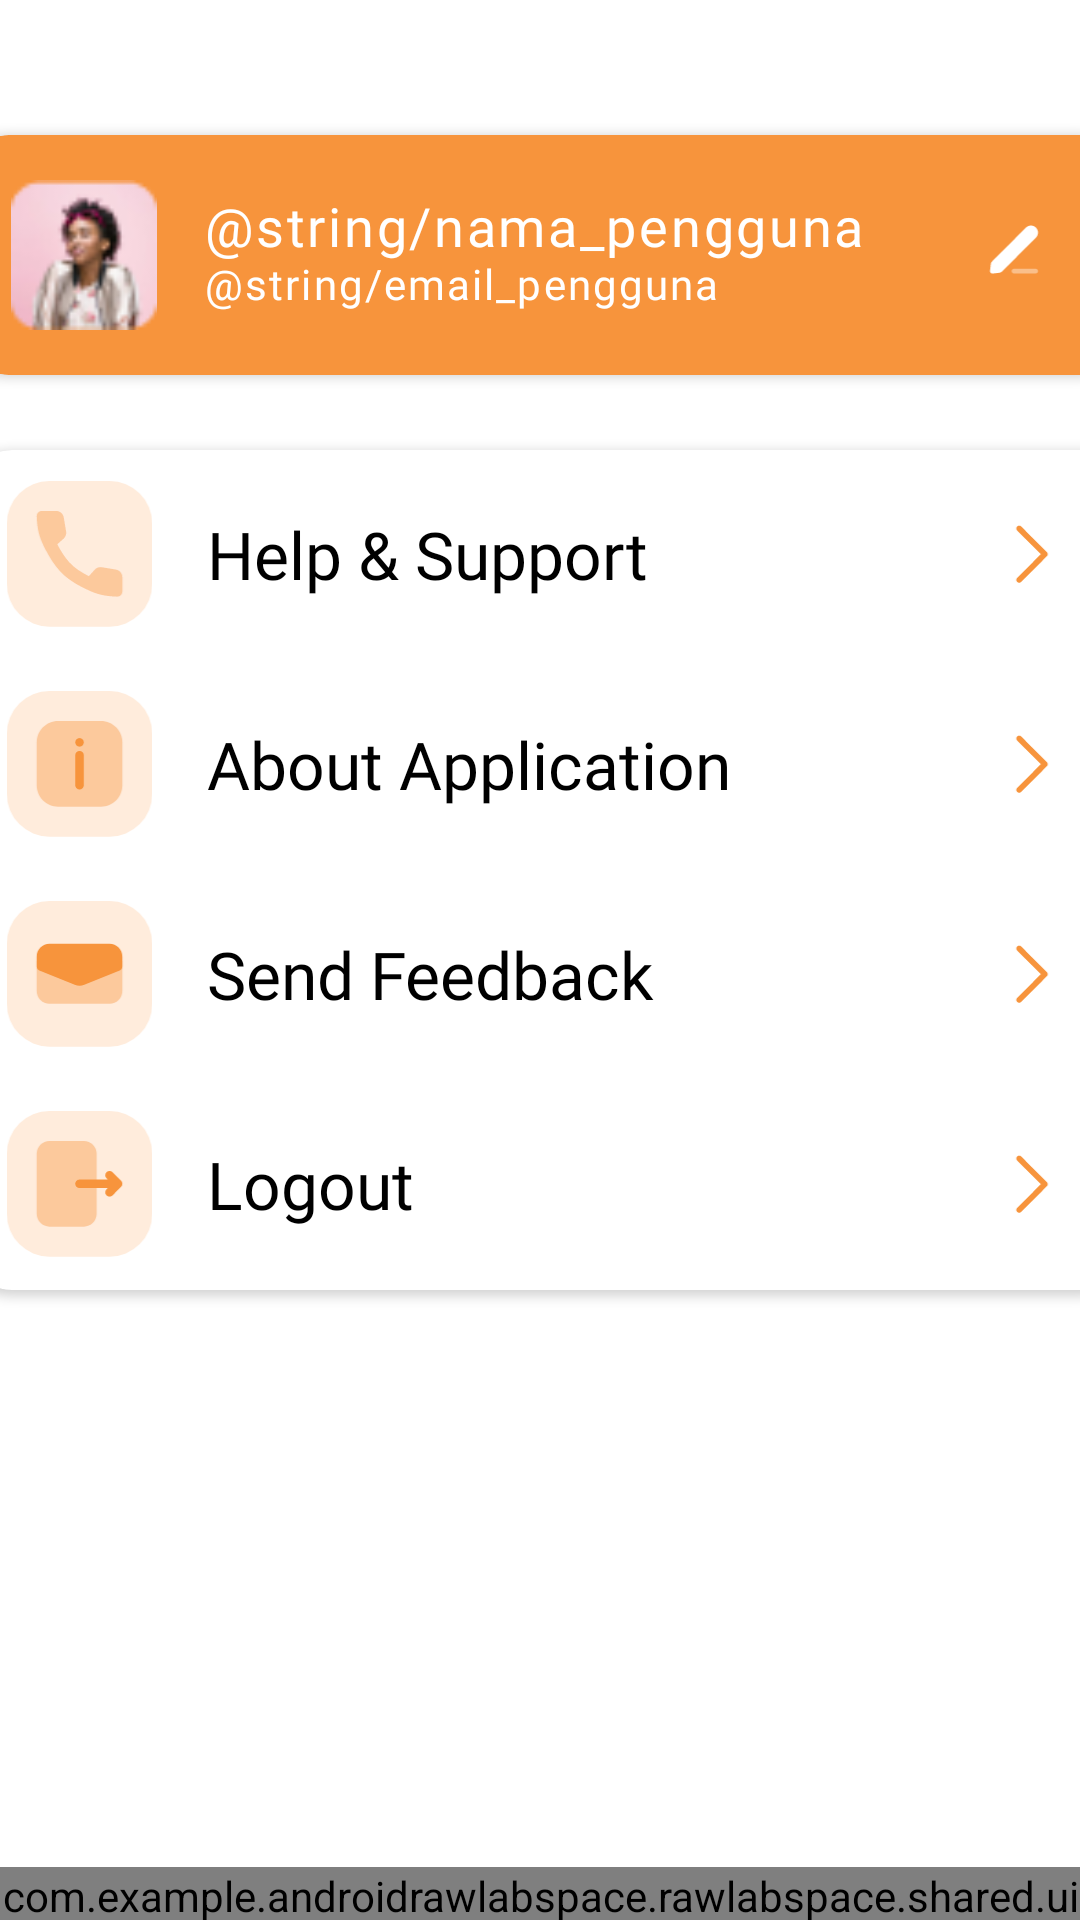

Icons on this 1080 x 1920 Android screen, each with the point to tap as [x,y]:
callicon: [79,554]
editicon: [1014,249]
emailicon: [79,974]
fotoprofil: [84,255]
inormationicon: [79,764]
vectorarah: [1032,554], [1032,764], [1032,974], [1032,1184]
